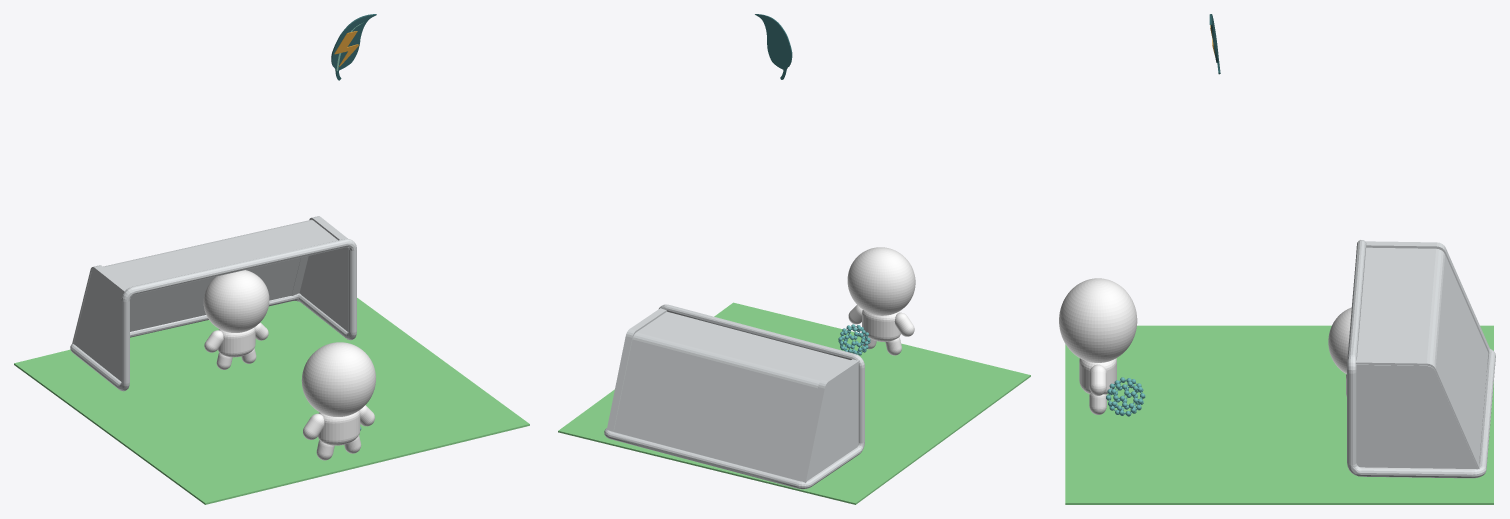
The model's file is c60_fut.glb.
The picture shows the model from 3 angles, left to right: view 1: azimuth 30°, elevation 25°; view 2: azimuth 150°, elevation 25°; view 3: azimuth 270°, elevation 25°; orthographic projection. The views are drawn at different scales.
Visible parts, largest first — view 1: obj_4, path182; view 2: obj_4, path182, c60; view 3: obj_4, c60.
Boxes of the visible parts, left/top/right/bottom form: obj_4: left=14, top=216, right=529, bottom=504; path182: left=331, top=14, right=376, bottom=80; obj_4: left=558, top=247, right=1030, bottom=504; path182: left=755, top=14, right=792, bottom=79; c60: left=838, top=324, right=870, bottom=355; obj_4: left=1059, top=240, right=1495, bottom=504; c60: left=1106, top=377, right=1145, bottom=416.
Bounding box in the file's own units: 4.51 × 5.14 × 4.69.
